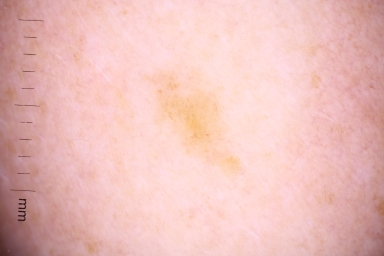melanoma: (155, 91, 245, 175)
